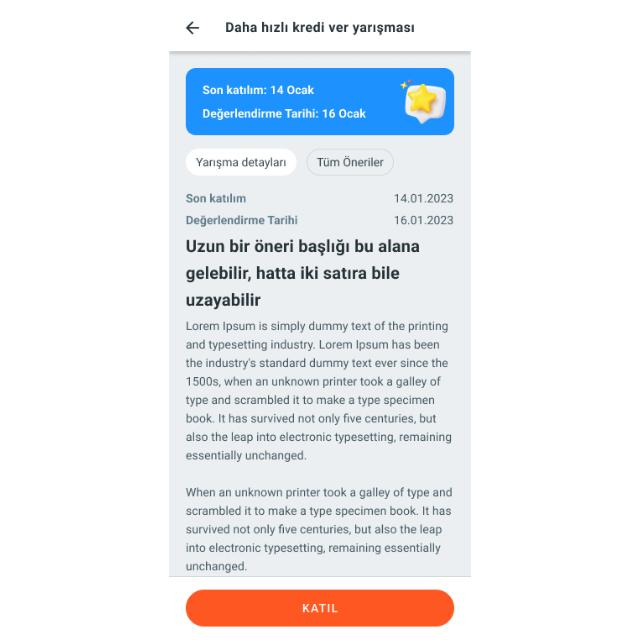QLabel: (180, 319, 458, 465), (179, 484, 459, 574), (178, 234, 424, 310), (201, 106, 367, 122), (218, 22, 416, 34), (182, 214, 300, 228), (203, 84, 314, 96), (194, 156, 286, 168), (394, 212, 456, 228), (318, 155, 386, 169), (182, 194, 252, 206), (392, 193, 454, 205), (302, 603, 338, 613)
VAppBar: (169, 2, 471, 52)
VBtn: (185, 590, 459, 628)
VCard: (184, 68, 456, 136)
VChip: (185, 147, 297, 177), (308, 148, 394, 176)
VFooter: (169, 578, 471, 640)
VIcon: (178, 13, 206, 43)
VImg: (399, 74, 448, 126)
